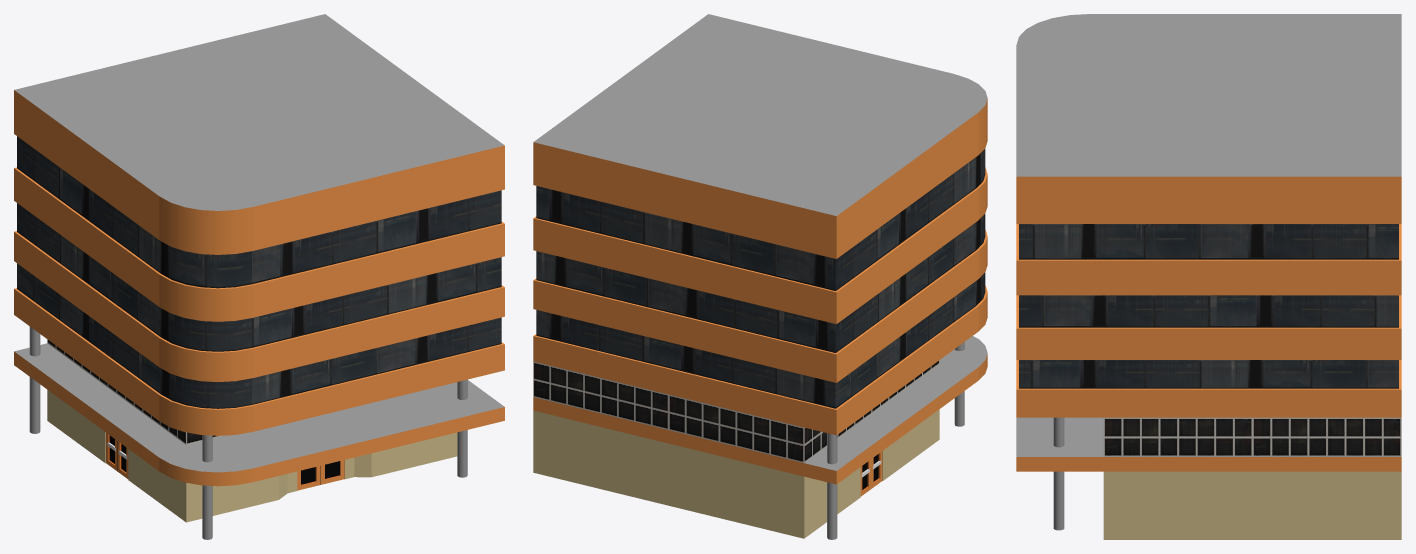
3 renders of one model, left to right at view 1: azimuth 30°, elevation 25°; view 2: azimuth 150°, elevation 25°; view 3: azimuth 270°, elevation 25°, orthographic. The views are drawn at different scales.
Visible parts, largest first — view 1: EB-005; view 2: EB-005; view 3: EB-005.
Boxes of the visible parts, bbox=[...] form: EB-005: bbox=[14, 14, 504, 539]; EB-005: bbox=[533, 14, 987, 539]; EB-005: bbox=[1016, 14, 1401, 539].
Size of what is drawn, in the model's own units: 19.98 by 20.8 by 19.98.
